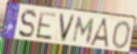A: (89, 17, 111, 50)
E: (35, 11, 58, 42)
M: (71, 15, 97, 45)
O: (111, 19, 131, 50)
S: (17, 9, 37, 40)
V: (58, 12, 77, 45)
